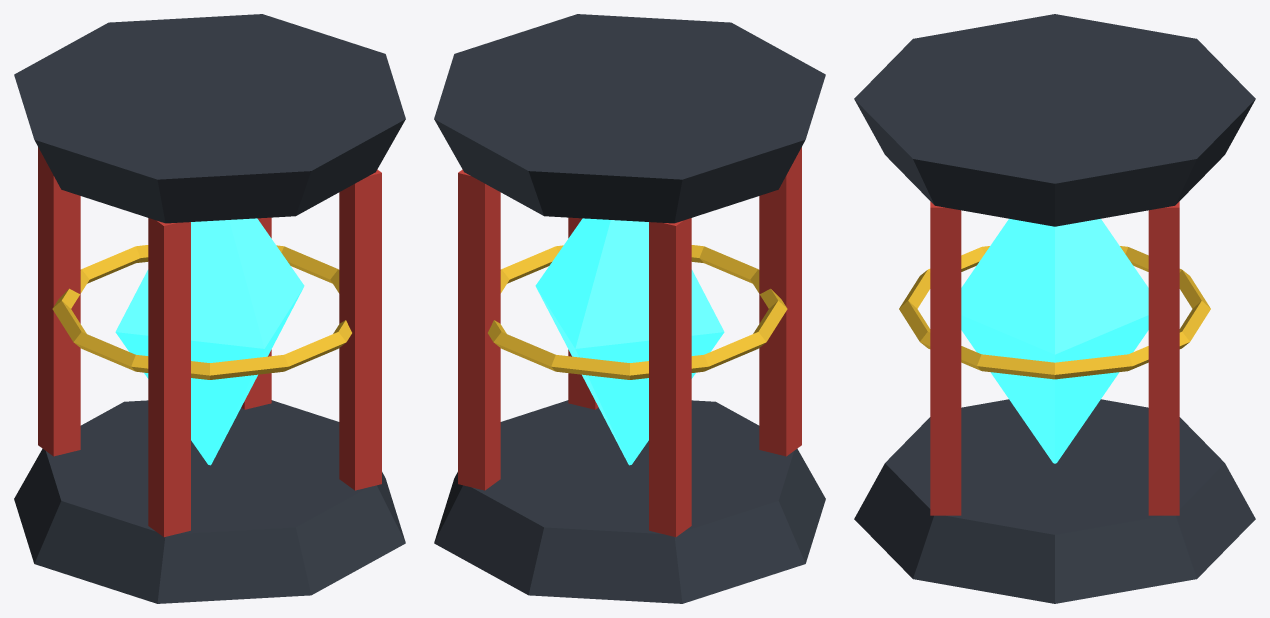
The model's file is interior_power_core.glb.
The picture shows the model from 3 angles, left to right: view 1: azimuth 30°, elevation 25°; view 2: azimuth 150°, elevation 25°; view 3: azimuth 270°, elevation 25°; orthographic projection.
Visible parts, largest first — view 1: interior_power_core_steelDark, interior_power_core_red, interior_power_core_glow, interior_power_core_yellow; view 2: interior_power_core_steelDark, interior_power_core_red, interior_power_core_glow, interior_power_core_yellow; view 3: interior_power_core_steelDark, interior_power_core_glow, interior_power_core_red, interior_power_core_yellow.
Boxes of the visible parts, x1,y1,x2,y2 form: interior_power_core_steelDark: (14,14,405,603); interior_power_core_red: (38,147,381,537); interior_power_core_glow: (115,218,304,465); interior_power_core_yellow: (52,245,351,379); interior_power_core_steelDark: (434,14,825,603); interior_power_core_red: (458,147,801,537); interior_power_core_glow: (535,218,724,465); interior_power_core_yellow: (488,245,787,379); interior_power_core_steelDark: (854,14,1255,603); interior_power_core_glow: (961,218,1148,463); interior_power_core_red: (930,201,1179,515); interior_power_core_yellow: (899,246,1210,379).
Size of the model in its own units: 5.2 by 6 by 5.2.
